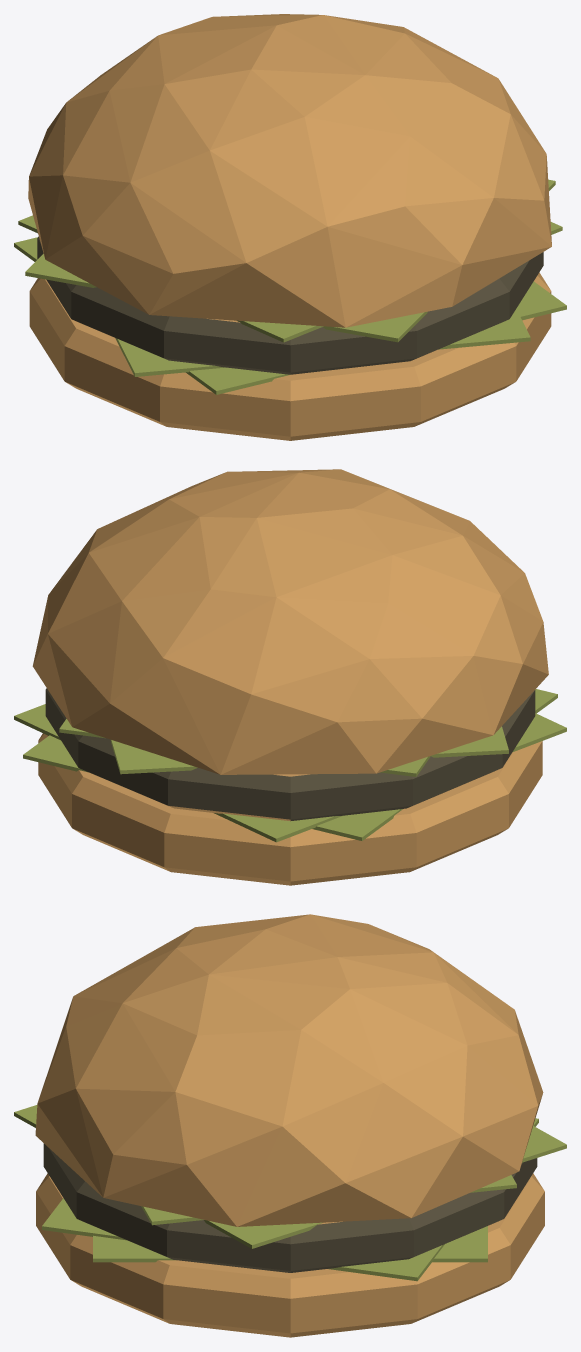
The picture shows the model from 3 angles, top to bottom: view 1: azimuth 30°, elevation 25°; view 2: azimuth 150°, elevation 25°; view 3: azimuth 270°, elevation 25°; orthographic projection. The views are drawn at different scales.
Parts seen in each view (by area): view 1: Burger; view 2: Burger; view 3: Burger.
Part boxes in pixels (<box>): Burger: <box>14,14,566,440</box>; Burger: <box>14,469,566,885</box>; Burger: <box>14,914,566,1337</box>.
Size of the model in its own units: 236 by 133 by 236.
